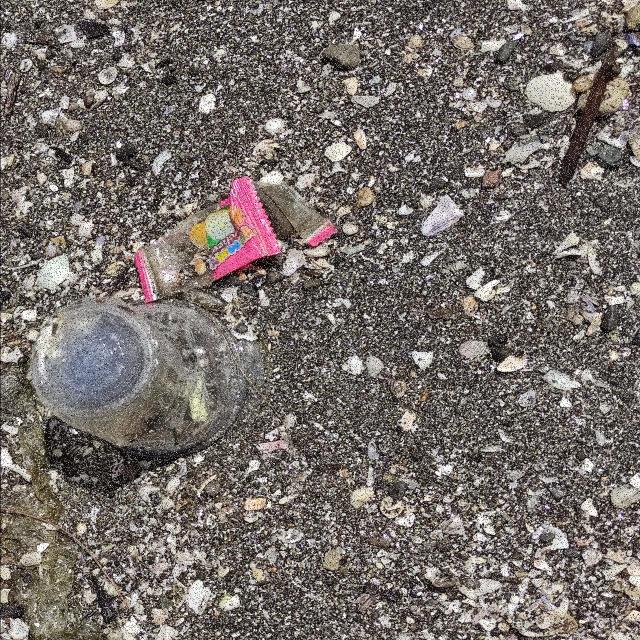plastic_waste: (26, 295, 251, 462), (133, 176, 283, 306)
